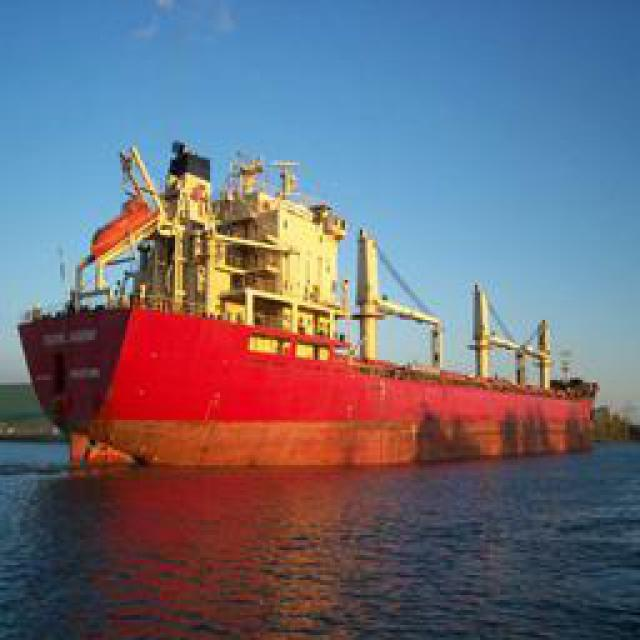Ship: (24, 182, 609, 460)
